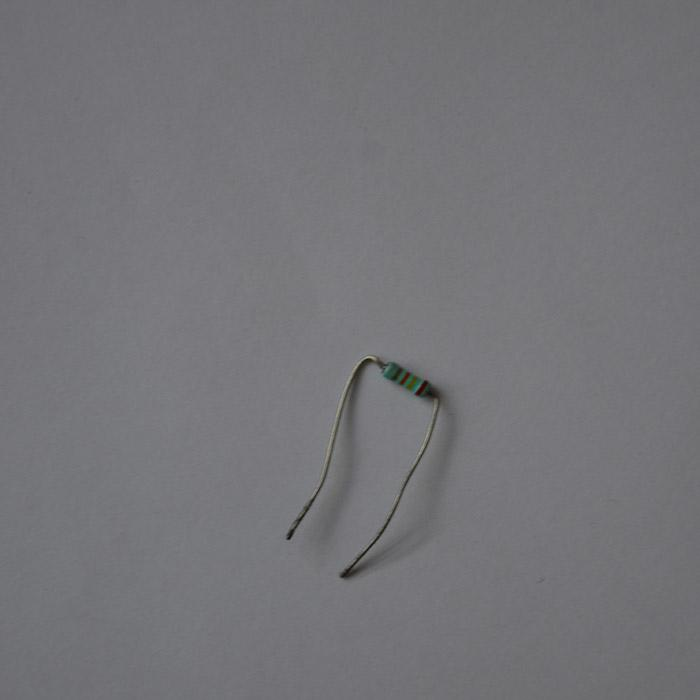resistor: (383, 362, 436, 404)
